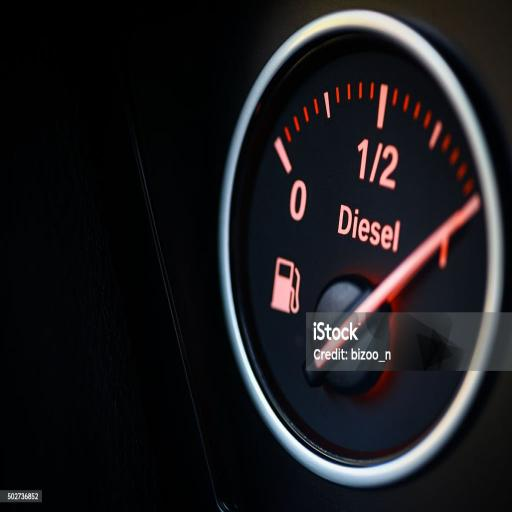empty: (287, 179, 310, 220)
fuel_icon: (267, 255, 305, 316)
full: (429, 228, 459, 274)
guage_area: (265, 82, 488, 435)
needle_center: (307, 268, 395, 396)
needle_tip: (466, 194, 486, 219)
